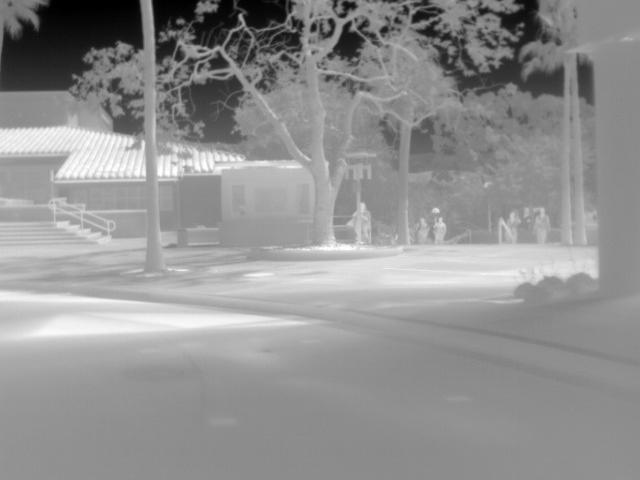person: (532, 206, 552, 246), (359, 198, 374, 244), (428, 213, 448, 243), (415, 216, 432, 243), (505, 209, 520, 239)
